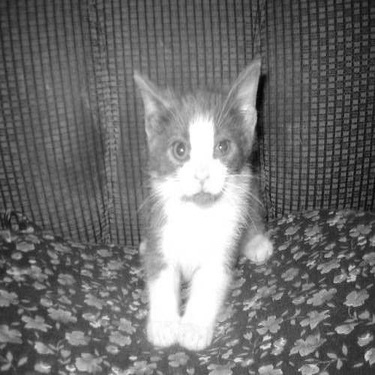cat: (123, 55, 272, 352)
